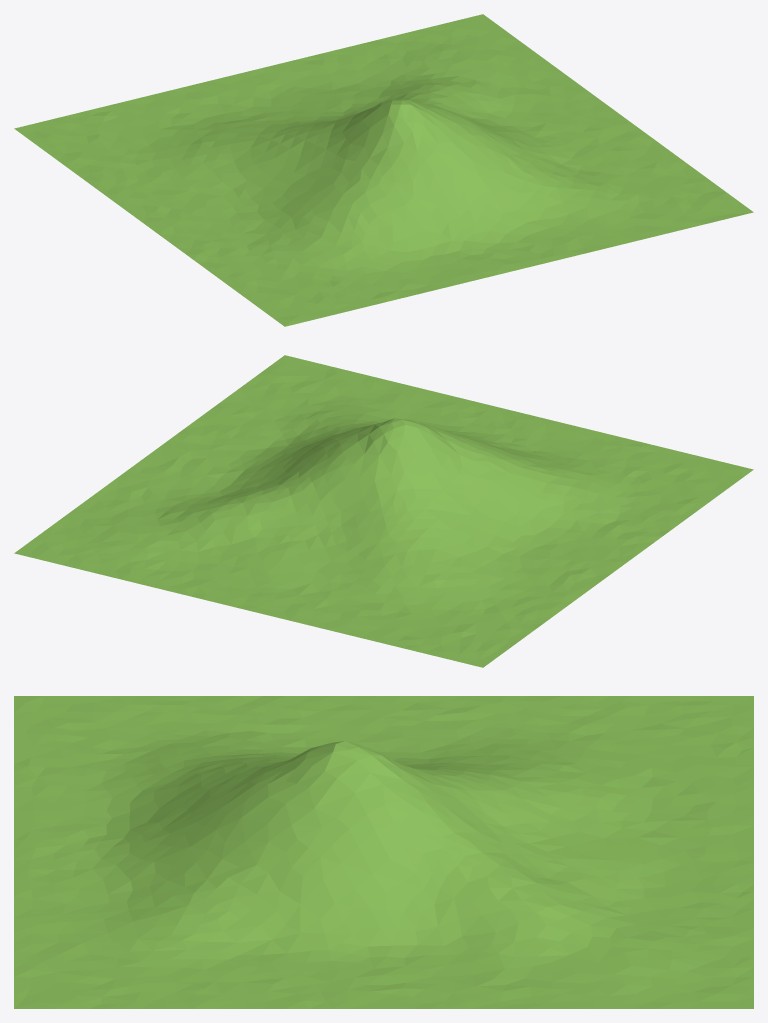
File: MT_Terrain_L_a_14.fbx
3 views of the same model, one above another, from view 1: azimuth 30°, elevation 25°; view 2: azimuth 150°, elevation 25°; view 3: azimuth 270°, elevation 25° (orthographic). The views are drawn at different scales.
Visible parts, largest first — view 1: MT_Terrain_L_a_14; view 2: MT_Terrain_L_a_14; view 3: MT_Terrain_L_a_14.
Boxes of the visible parts, <box> form: MT_Terrain_L_a_14: <box>14,14,753,326</box>; MT_Terrain_L_a_14: <box>14,355,753,667</box>; MT_Terrain_L_a_14: <box>14,696,753,1008</box>.
Size of the model in its own units: 10000 by 1619 by 10000.
